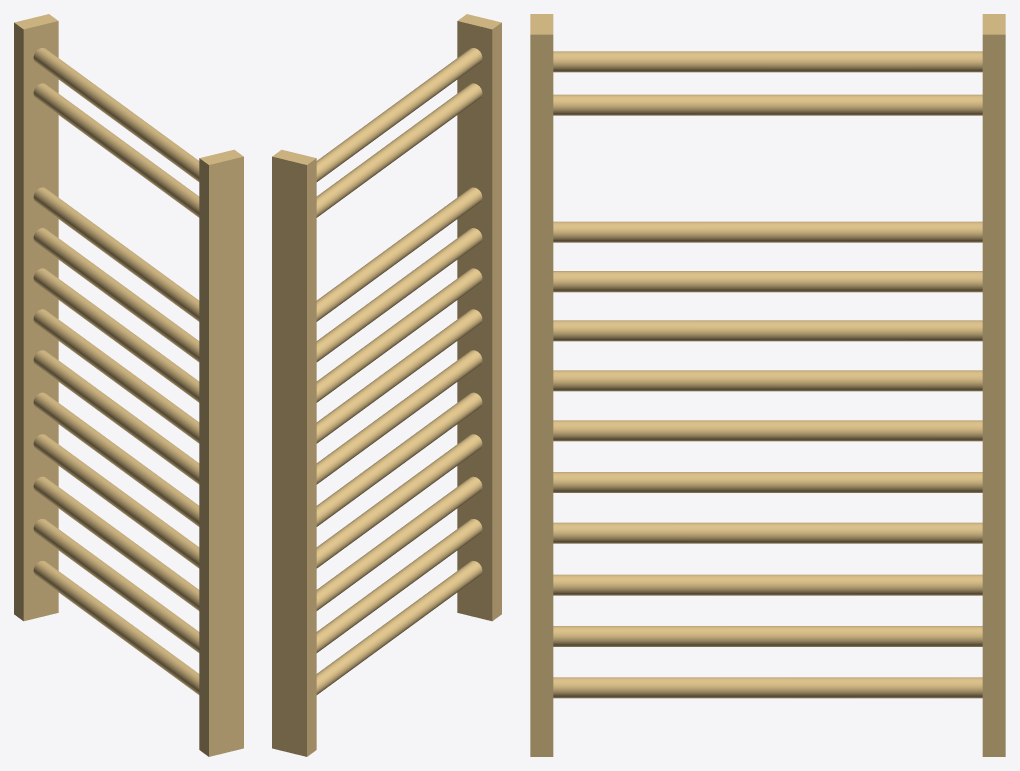
Rendered from echelle.fbx.
3 renders of one model, left to right at view 1: azimuth 30°, elevation 25°; view 2: azimuth 150°, elevation 25°; view 3: azimuth 270°, elevation 25°, orthographic. The views are drawn at different scales.
Parts seen in each view (by area): view 1: cote_gauche, cote_droit, barre3, barre5, barre10, barre7, barre4, barre6, barre9, barre8, barre, barre1 (+2 smaller); view 2: cote_droit, cote_gauche, barre3, barre5, barre10, barre7, barre4, barre6, barre9, barre8, barre, barre1 (+2 smaller); view 3: cote_gauche, cote_droit, barre, barre2, barre3, barre5, barre6, barre7, barre8, barre9, barre10, barre11 (+2 smaller).
Boxes of the visible parts, x1,y1,x2,y2 form: cote_gauche: [199, 149, 243, 756]; cote_droit: [14, 14, 58, 621]; barre3: [33, 434, 199, 568]; barre5: [33, 350, 199, 484]; barre10: [33, 83, 199, 217]; barre7: [33, 268, 199, 402]; barre4: [33, 392, 199, 526]; barre6: [33, 309, 199, 443]; barre9: [33, 187, 199, 321]; barre8: [33, 228, 199, 361]; barre: [33, 560, 199, 694]; barre1: [33, 519, 199, 652]; cote_droit: [272, 149, 316, 756]; cote_gauche: [457, 14, 501, 621]; barre3: [316, 434, 482, 568]; barre5: [316, 350, 482, 484]; barre10: [316, 83, 482, 217]; barre7: [316, 268, 482, 402]; barre4: [316, 392, 482, 526]; barre6: [316, 309, 482, 443]; barre9: [316, 187, 482, 321]; barre8: [316, 228, 482, 361]; barre: [316, 560, 482, 694]; barre1: [316, 519, 482, 652]; cote_gauche: [530, 14, 553, 756]; cote_droit: [982, 14, 1005, 756]; barre: [553, 677, 982, 698]; barre2: [553, 574, 982, 595]; barre3: [553, 522, 982, 543]; barre5: [553, 420, 982, 441]; barre6: [553, 370, 982, 391]; barre7: [553, 320, 982, 341]; barre8: [553, 271, 982, 292]; barre9: [553, 221, 982, 242]; barre10: [553, 94, 982, 115]; barre11: [553, 51, 982, 72].
Size of the model in its own units: 0.6872 by 11.13 by 6.64.
